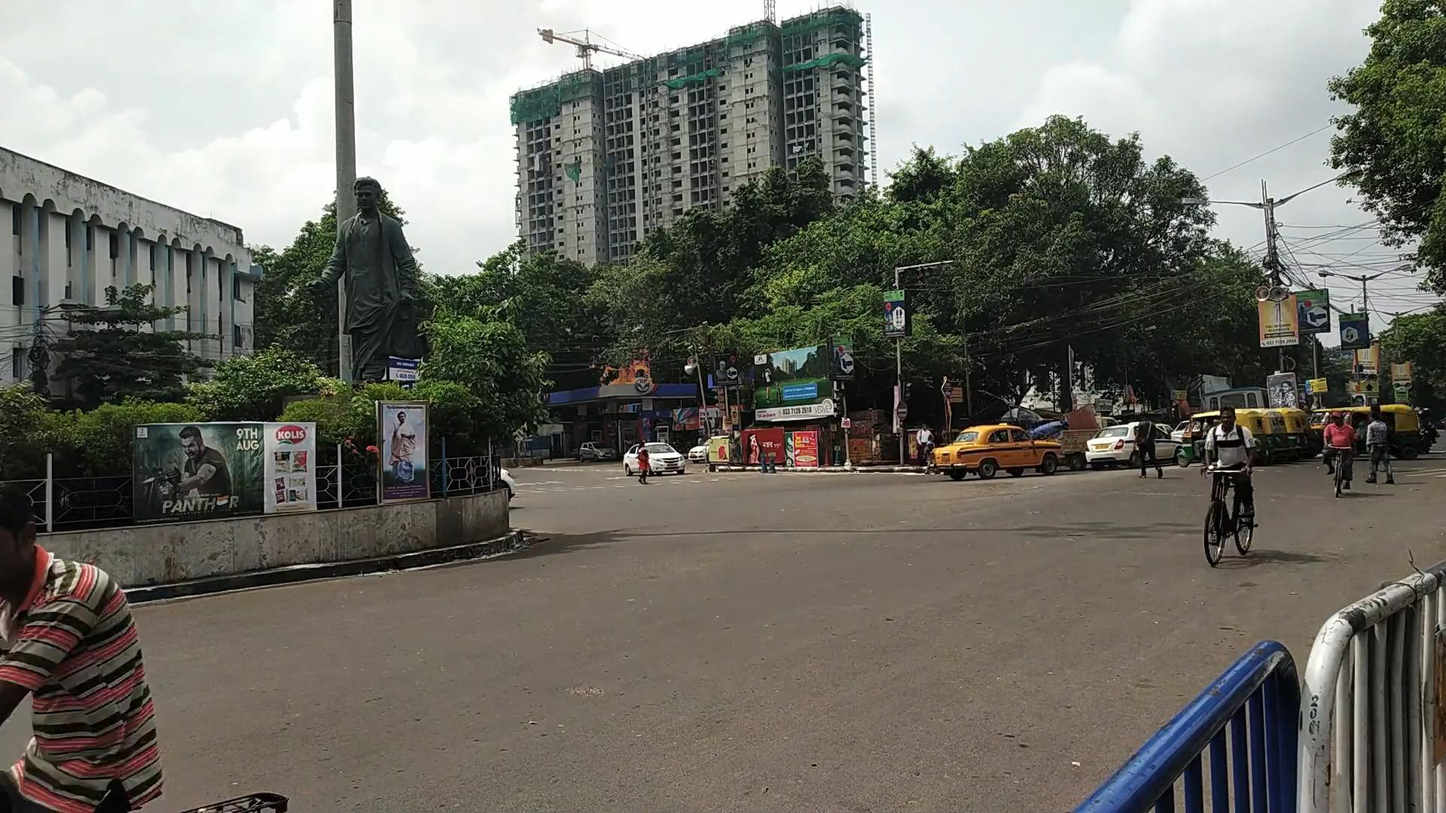bicyclist: (1199, 404, 1259, 567), (1321, 411, 1357, 497)
no-helmet: (1220, 405, 1236, 429)
